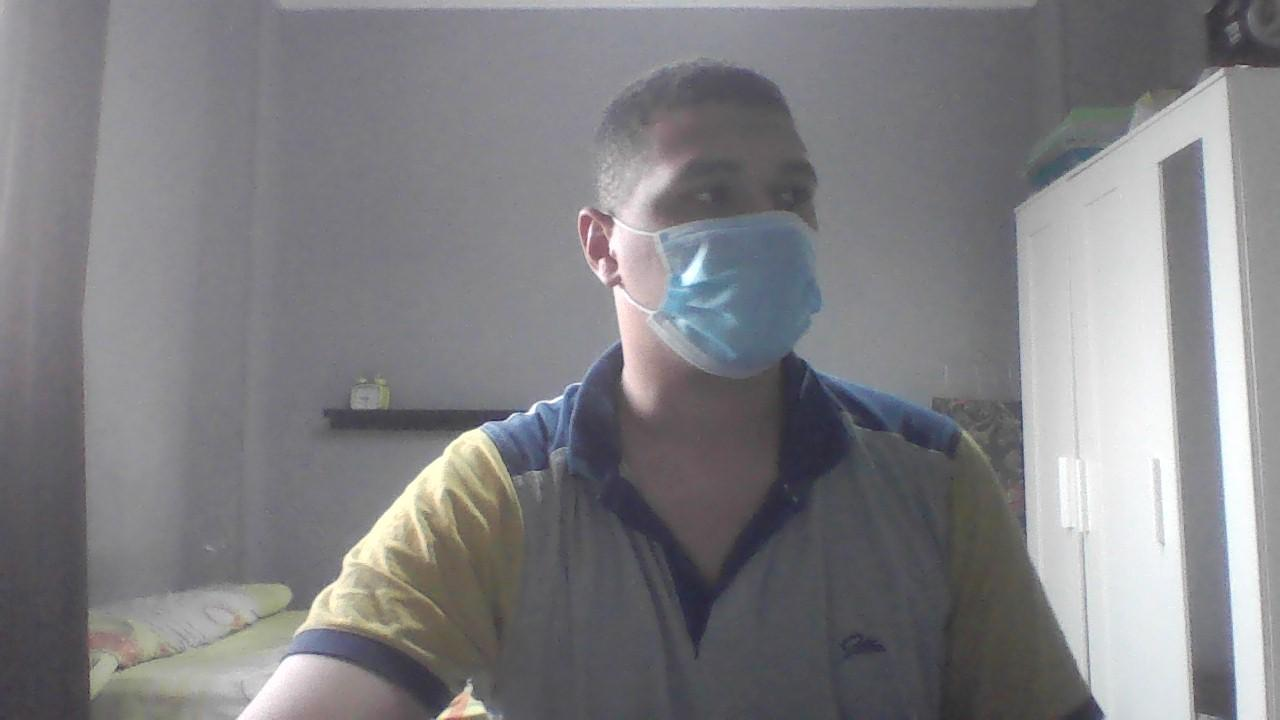with_mask: (627, 69, 821, 391)
